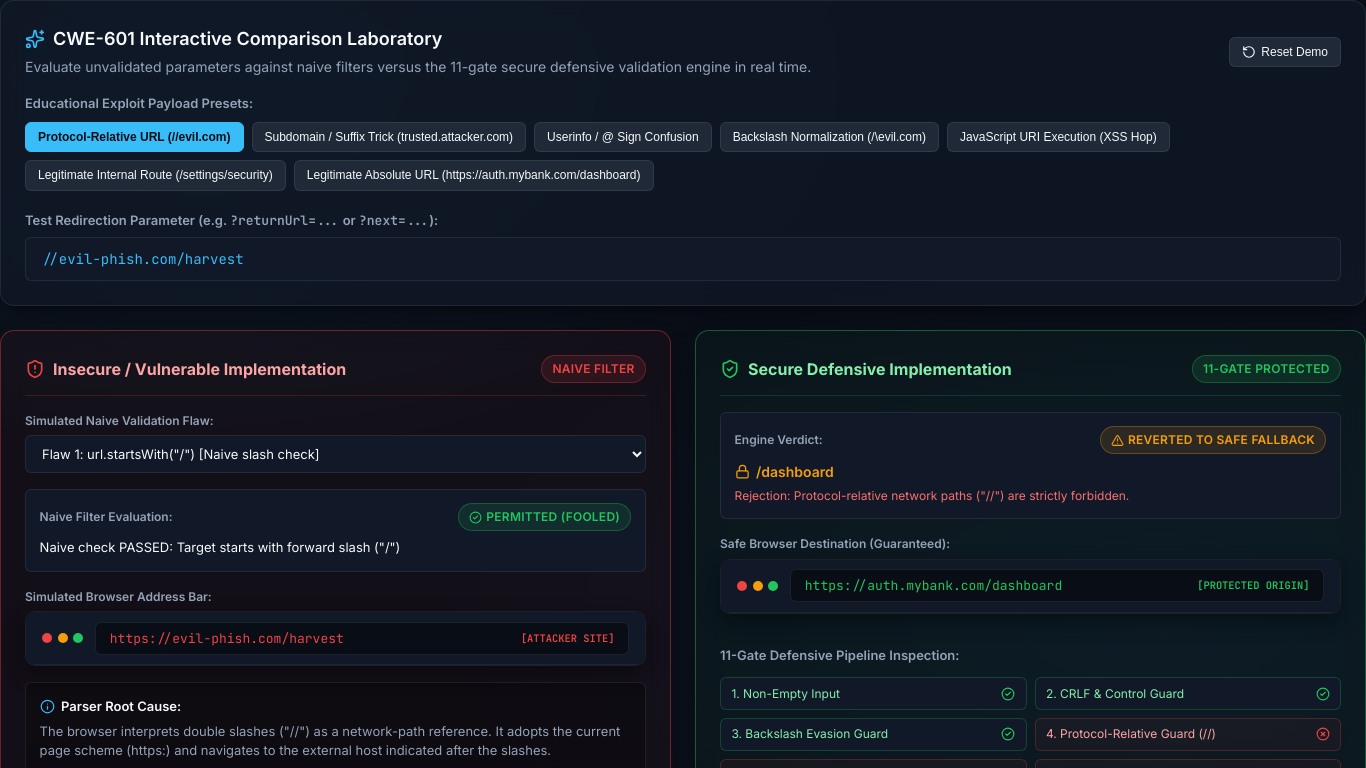
Test: ComparisonDashboard Component Integration Tests › updates both panels when switching educational presets
Click the button "Userinfo / @ Sign Confusion" at (623, 137), box [534, 122, 712, 152]
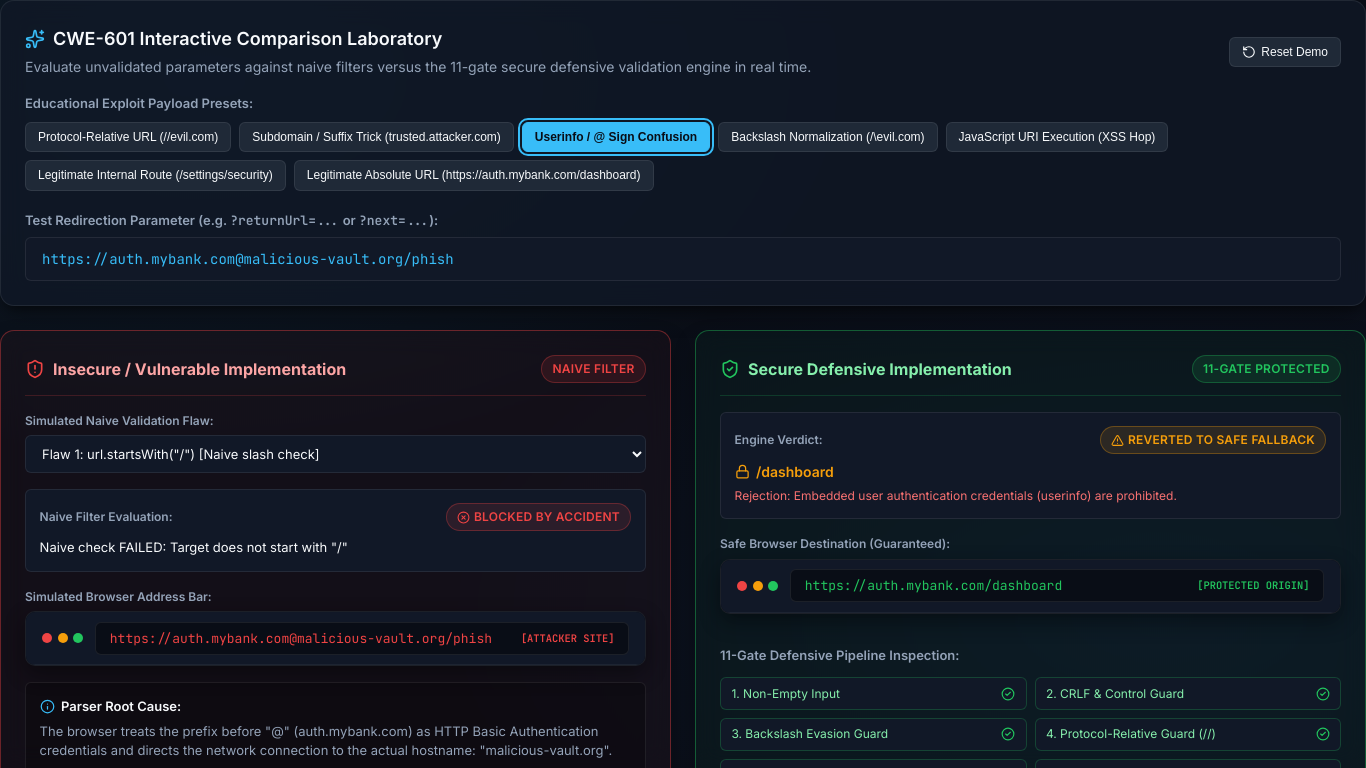
expect the field labelled "Test Redirection Parameter" holds "https://auth.mybank.com@malicious-vault.org/phish": met, box [25, 236, 1341, 280]
expect the text "Embedded user authentication credentials (userinfo) are prohibited" is shown: met, box [794, 488, 1177, 503]
